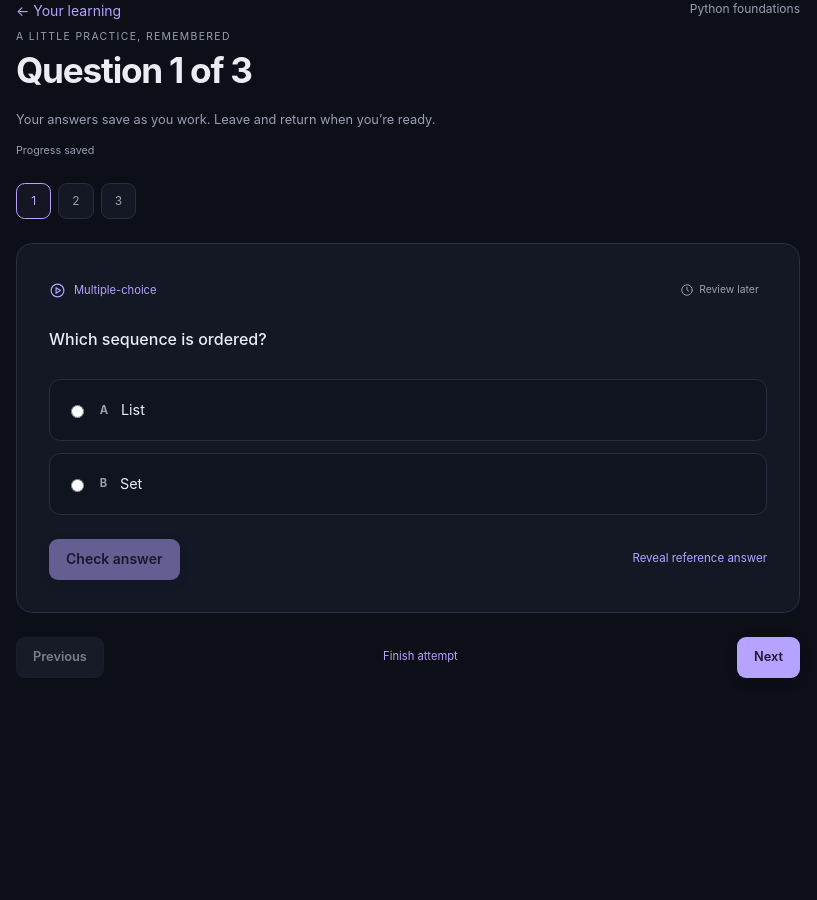
it: Durable quiz experience › preserves a submitted written answer after an AI outage and retries assessment without a second answer submission
Click the button named "Question 2": (76, 201) 58,183 -> 94,219
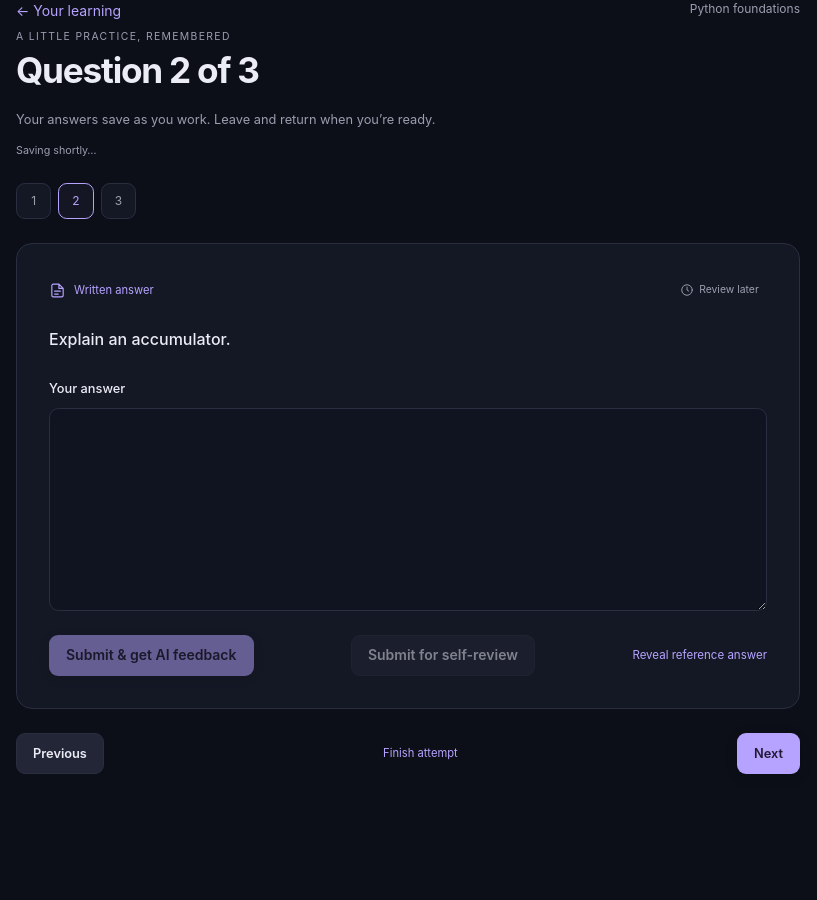
In the text box labelled "Your answer": (408, 510) 49,408 -> 767,611, type "It collects a running result."
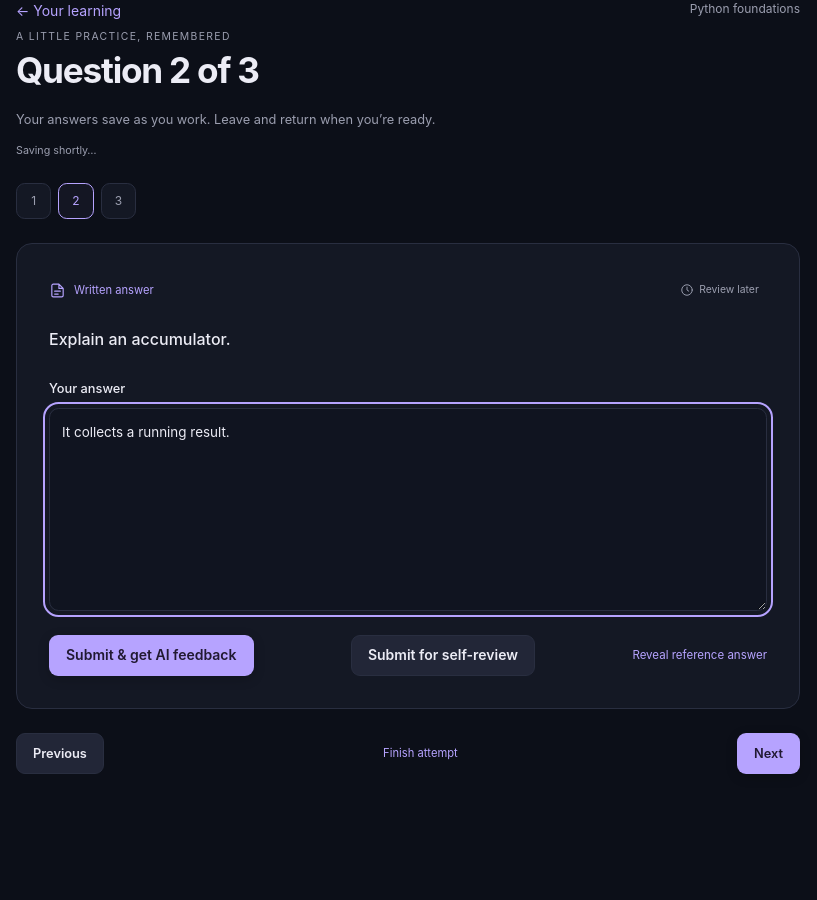
Click the button "Submit & get AI feedback": (151, 656) 49,635 -> 254,676
(page scrolled)
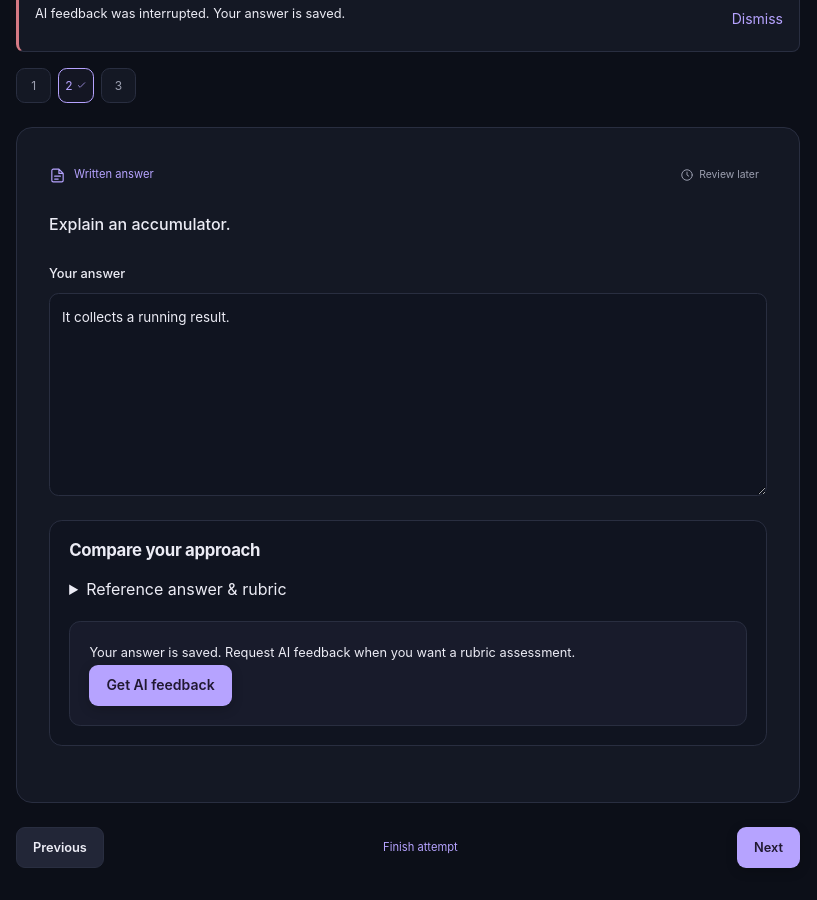
Check: the message shows "Your answer is saved", box 35,6 -> 345,21
Check: the text box labelled "Your answer" is disabled, box 49,293 -> 767,496
Click the button "Get AI feedback": (161, 686) 89,665 -> 232,706
(page scrolled)
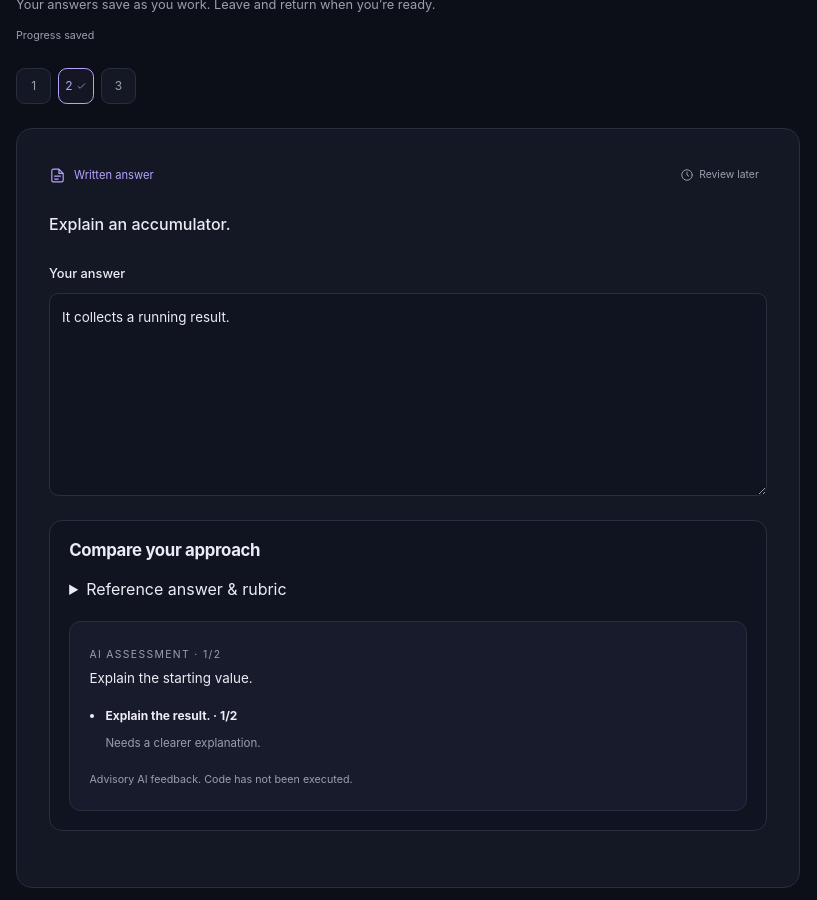
Check: the text "AI assessment · 1/2" is shown, box 89,648 -> 221,661
